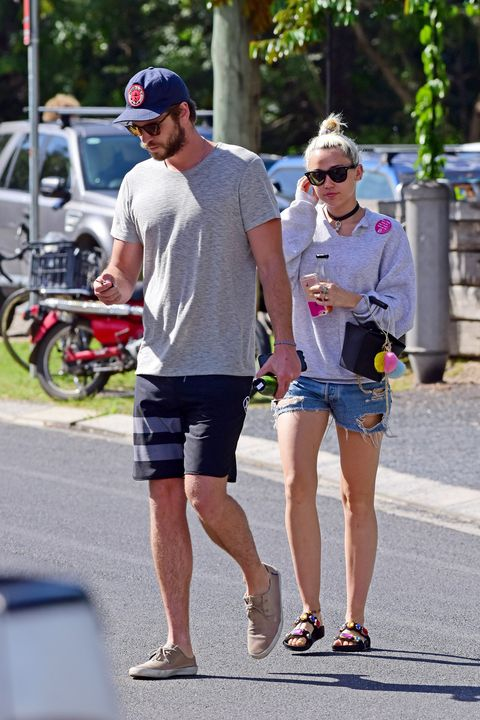Person: (92, 67, 301, 682), (284, 112, 407, 651)
